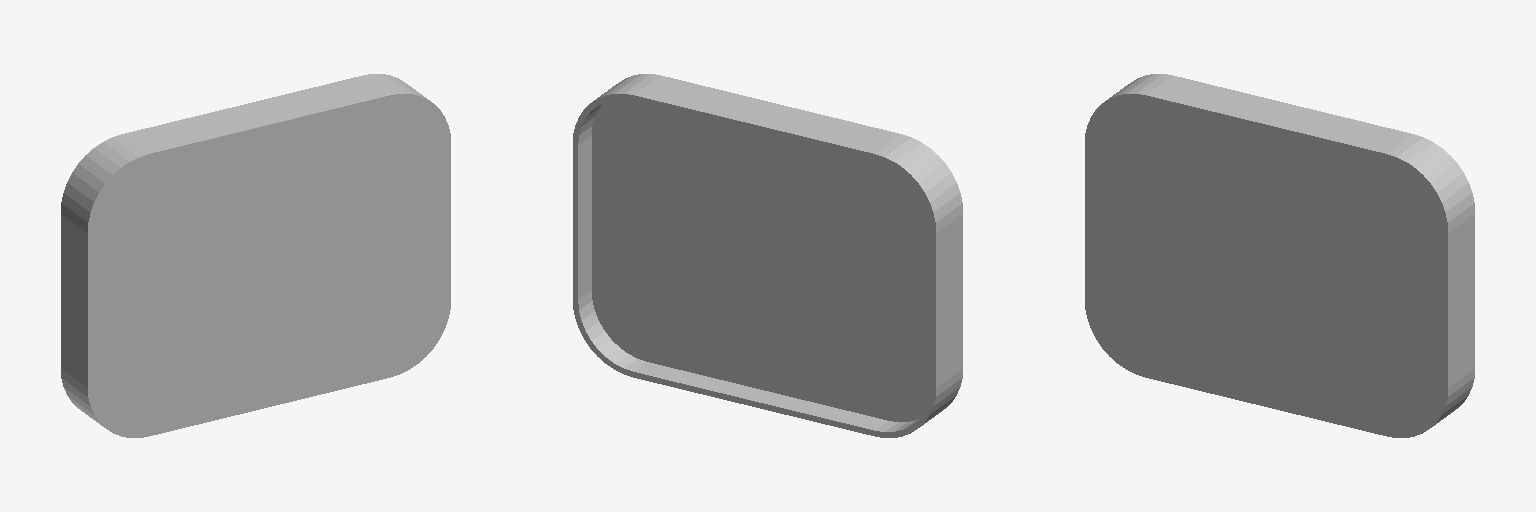
The model's file is Suture Practice Platform Small.OBJ.
3 renders of one model, left to right at view 1: azimuth 30°, elevation 25°; view 2: azimuth 150°, elevation 25°; view 3: azimuth 330°, elevation 25°, orthographic.
Parts seen in each view (by area): view 1: Suture_Practice_Platform_Small; view 2: Suture_Practice_Platform_Small; view 3: Suture_Practice_Platform_Small.
Part boxes in pixels (x1,y1,x2,y2): Suture_Practice_Platform_Small: (61,74,450,437); Suture_Practice_Platform_Small: (573,74,962,437); Suture_Practice_Platform_Small: (1085,74,1474,437).
Size of the model in its own units: 1.55 by 1.15 by 0.2.